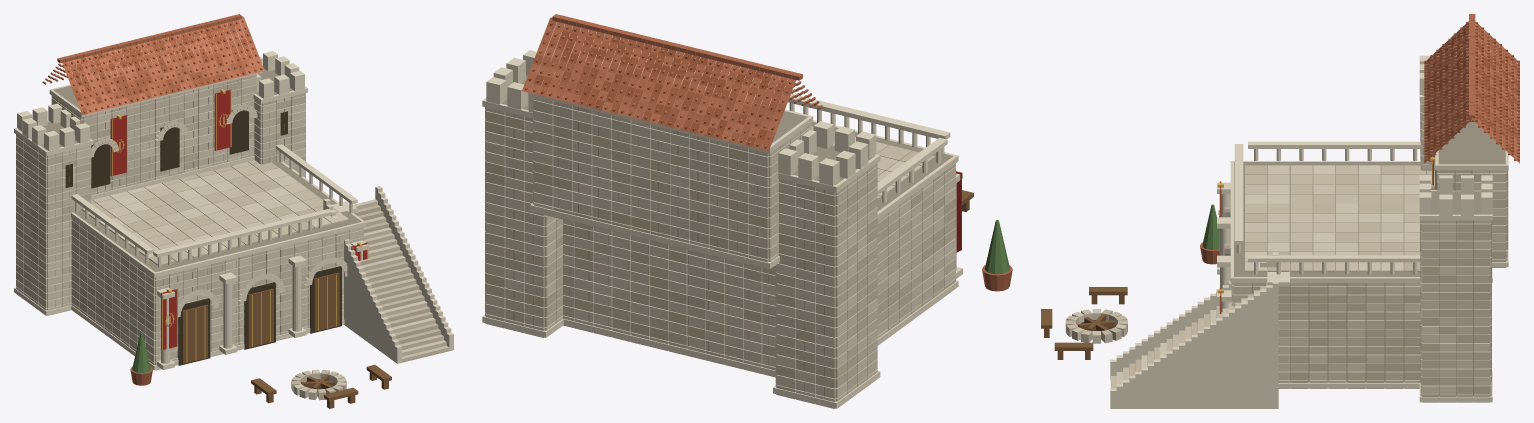
3 renders of one model, left to right at view 1: azimuth 30°, elevation 25°; view 2: azimuth 150°, elevation 25°; view 3: azimuth 270°, elevation 25°, orthographic. The views are drawn at different scales.
Parts seen in each view (by area): view 1: Bergfried – Steine, Säulen, Ziegel und Feuerstelle; view 2: Bergfried – Steine, Säulen, Ziegel und Feuerstelle; view 3: Bergfried – Steine, Säulen, Ziegel und Feuerstelle.
Part boxes in pixels (x1,y1,x2,y2): Bergfried – Steine, Säulen, Ziegel und Feuerstelle: (14,14,453,408); Bergfried – Steine, Säulen, Ziegel und Feuerstelle: (482,14,1012,408); Bergfried – Steine, Säulen, Ziegel und Feuerstelle: (1041,14,1519,408).
Size of the model in its own units: 1600 by 1280 by 2105.
